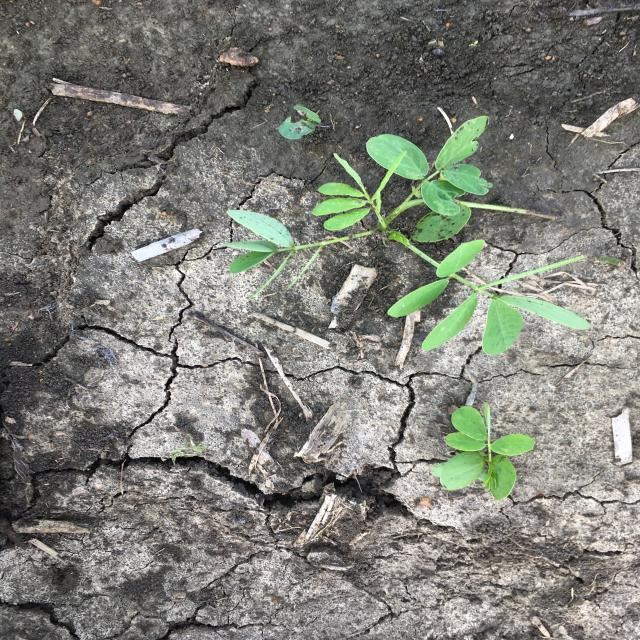Sicklepod: (216, 114, 596, 357), (427, 396, 538, 502)
